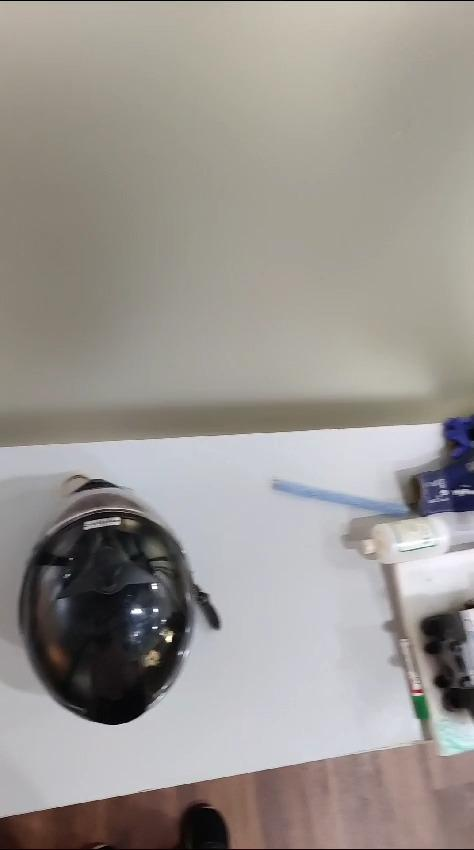Helmet: (19, 475, 219, 725)
